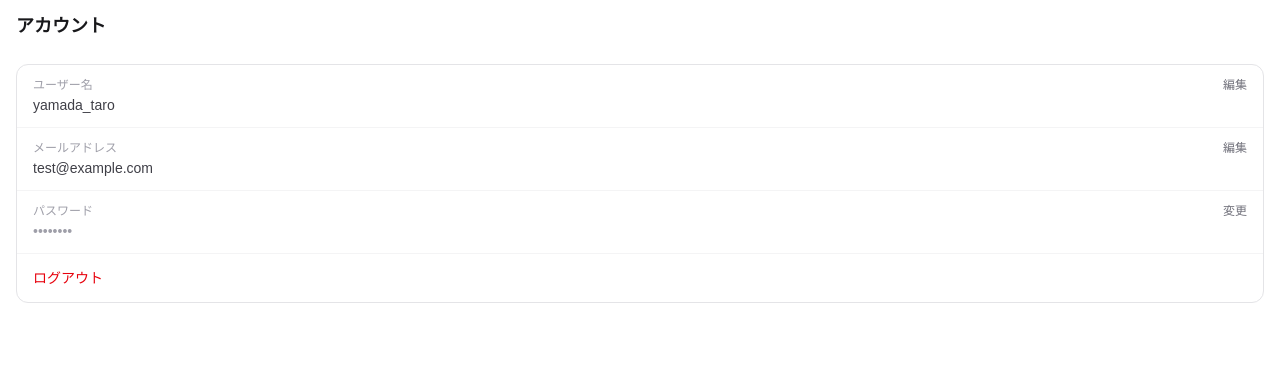
Test: AccountTab › ユーザー名の「編集」ボタンをクリックするとフォームが表示される
Click the button with aria-label "ユーザー名を編集". click: (1235, 85)
box: [1223,77,1247,93]
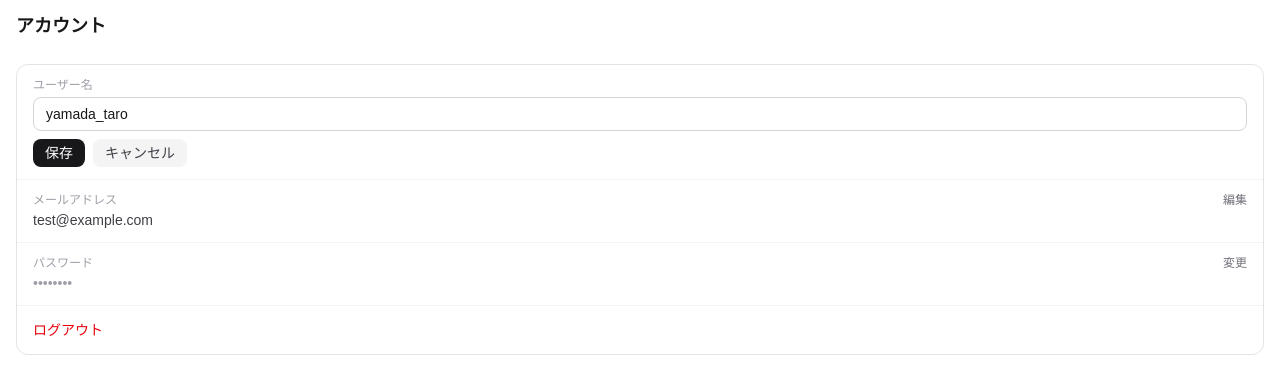
Now the field named "ユーザー名入力" is shown, box [33,97,1247,131]
Now the button "保存" is shown, box [33,139,85,167]
Now the button "キャンセル" is shown, box [93,139,187,167]
